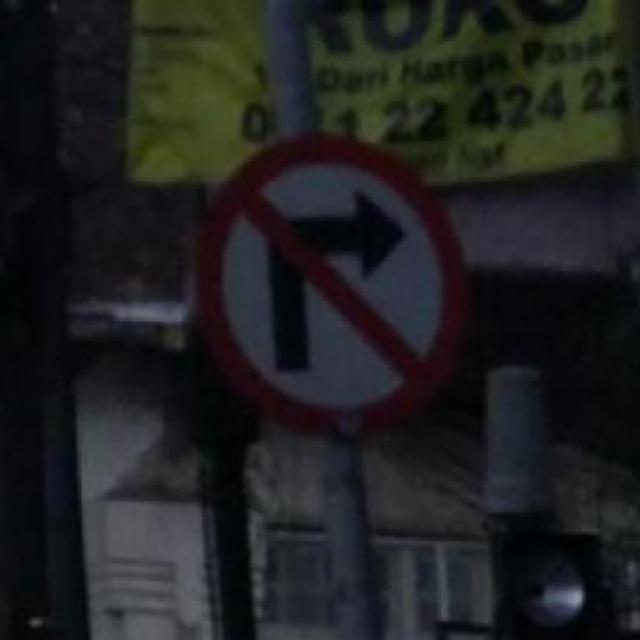right turn prohibited: (189, 129, 476, 449)
